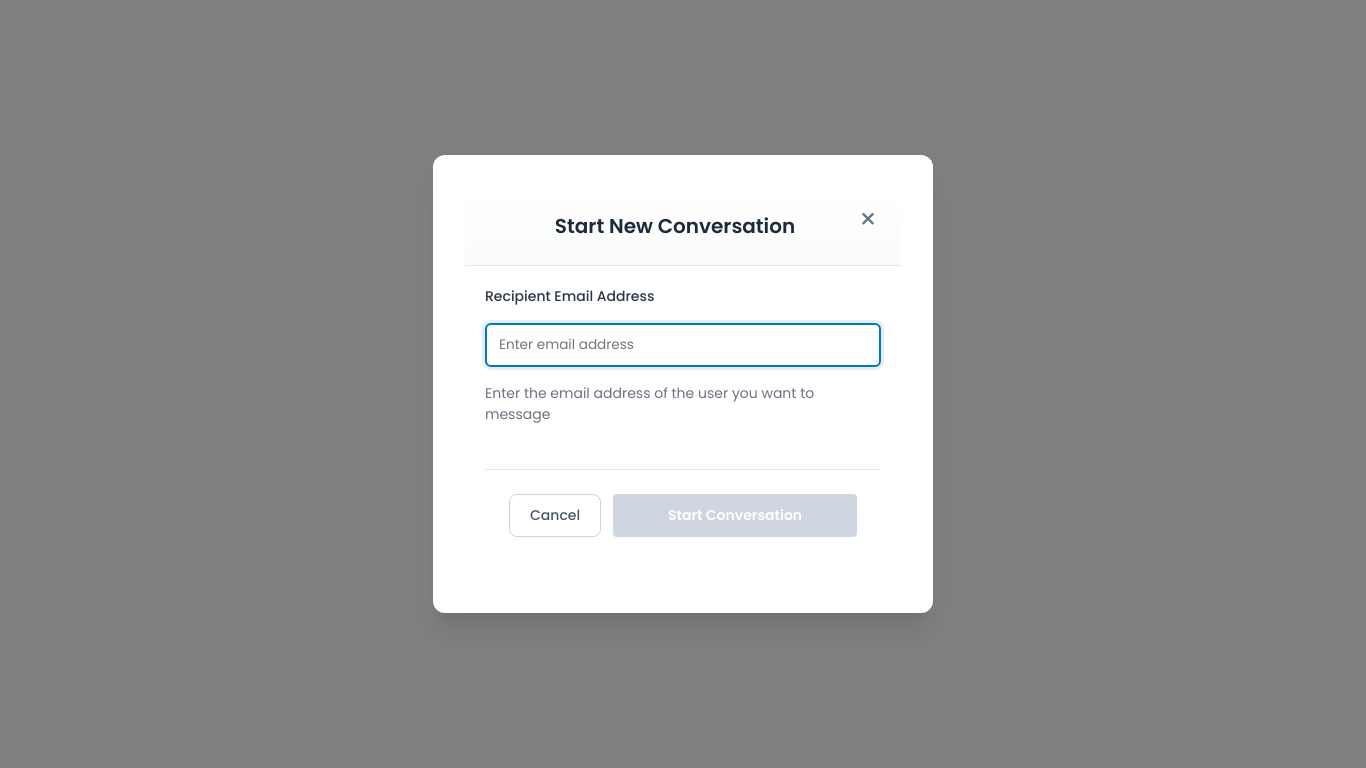
Scenario: NewConversationModal › displays error when user not found
Type "nonexistent@test.com" into the field labelled "Recipient Email Address" at (683, 345), box 485,323 -> 881,367
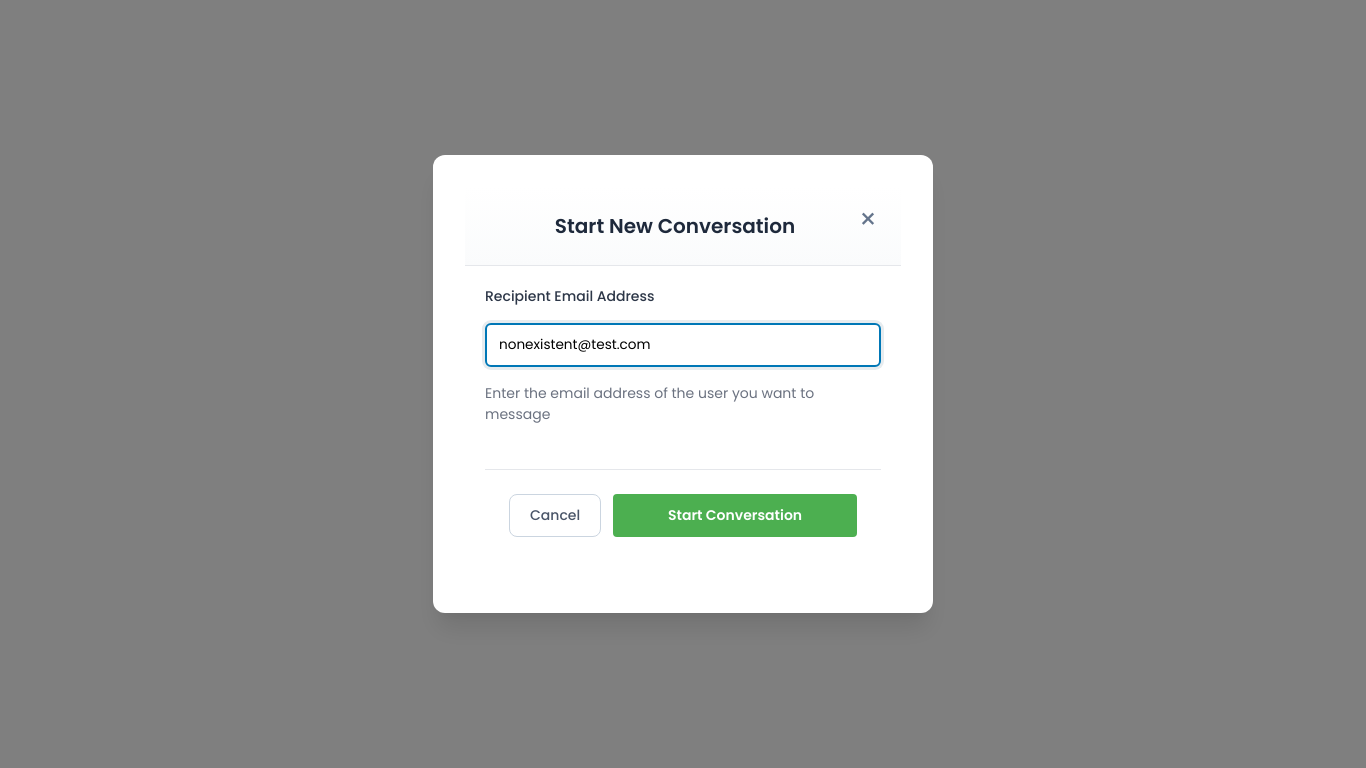
Click the button "Start Conversation" at (735, 516), box 613,494 -> 857,537
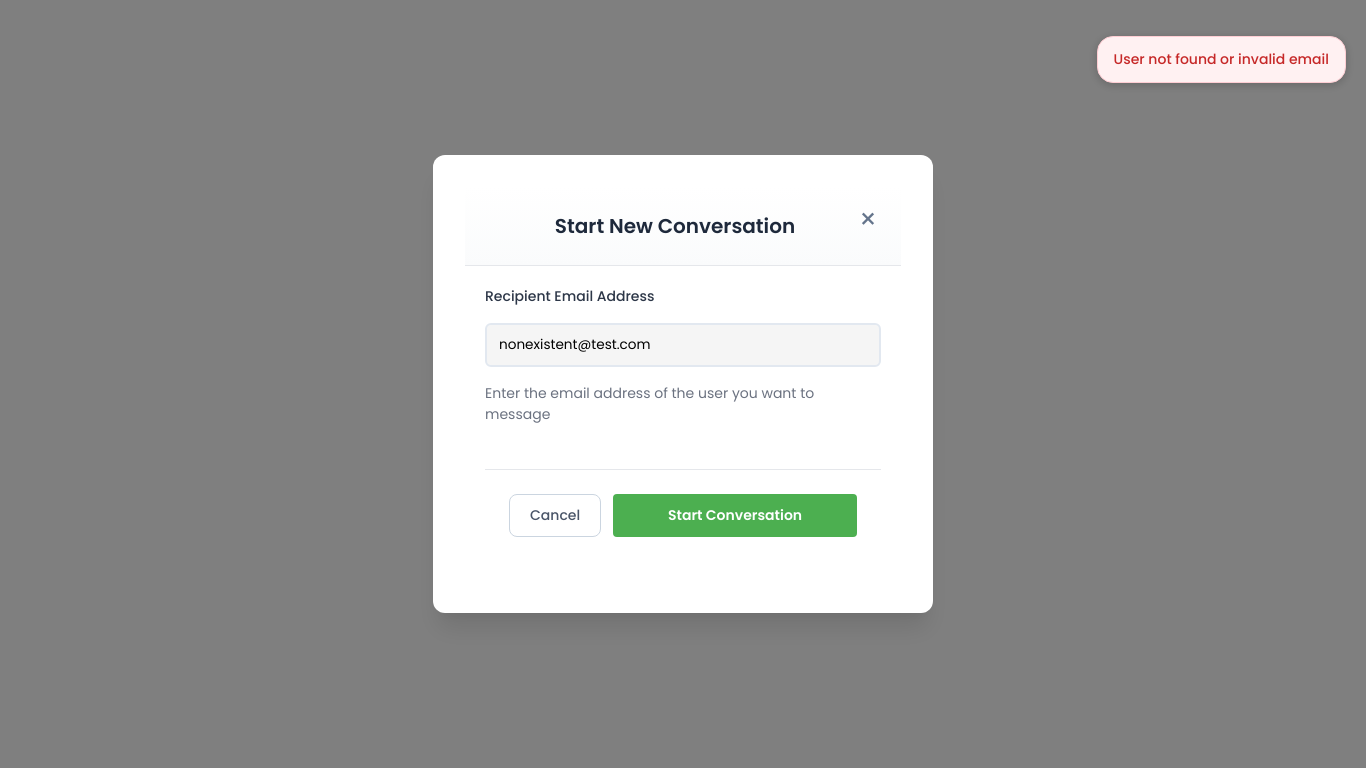
Check: the text "User not found or invalid email" is shown, box 1097,36 -> 1346,83
